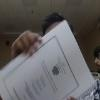notebook: (0, 19, 97, 99)
